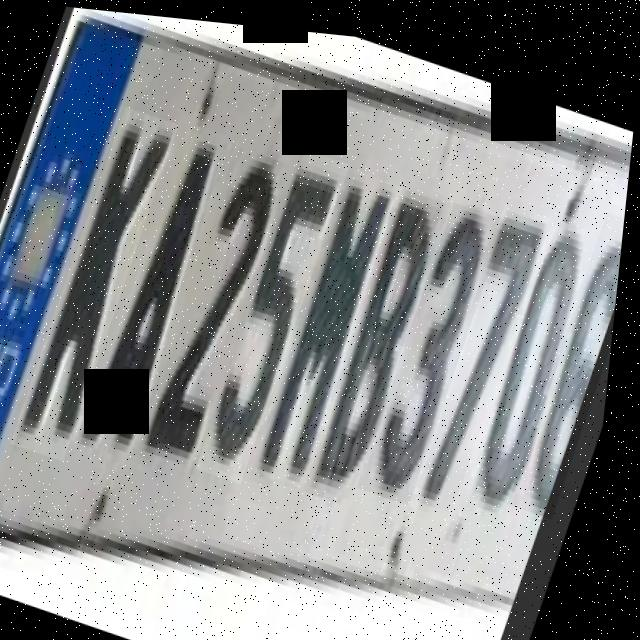0: (475, 196, 603, 506)
3: (365, 186, 511, 501)
5: (205, 136, 354, 484)
6: (532, 209, 627, 506)
7: (422, 195, 554, 507)
A: (83, 112, 244, 478)
B: (313, 173, 455, 503)
K: (18, 96, 181, 465)
M: (261, 157, 408, 486)
